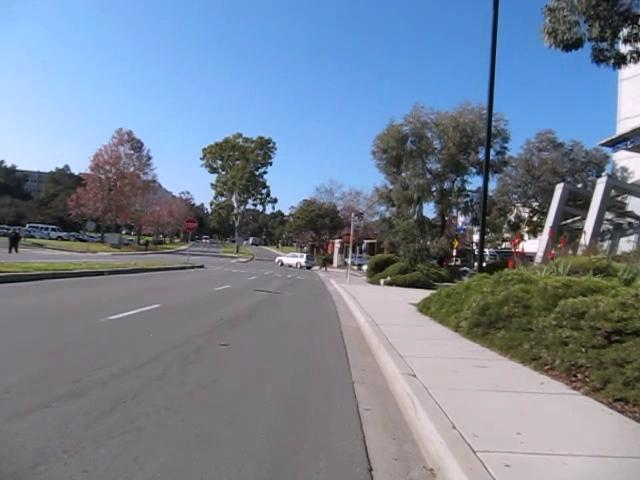stop: (182, 216, 199, 233)
